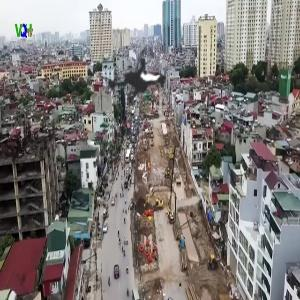drone: (72, 21, 204, 153)
